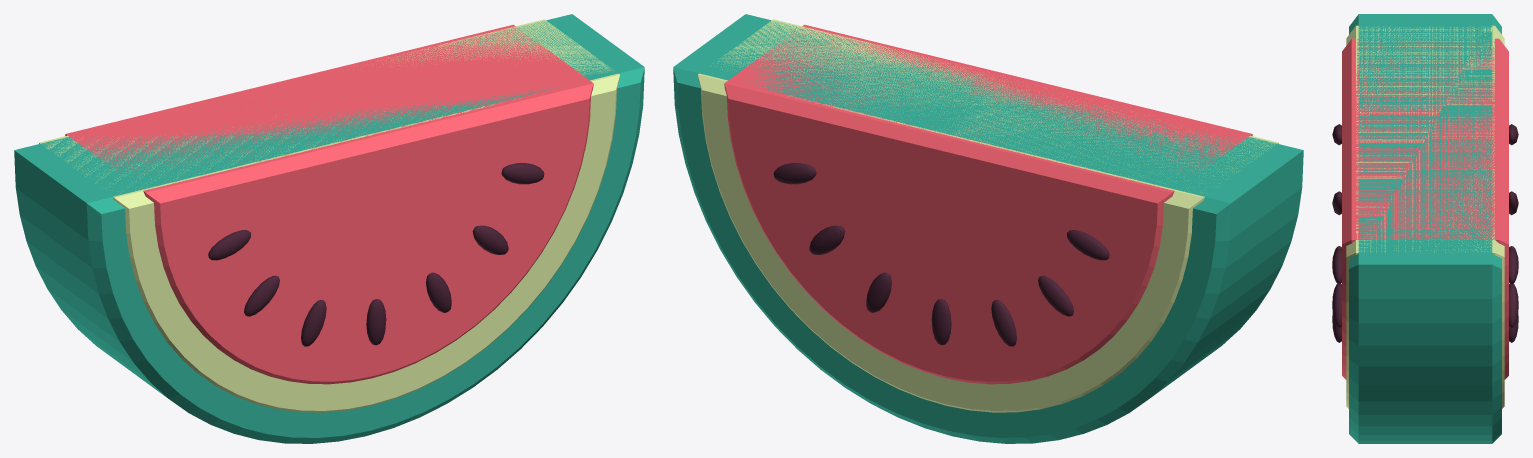
File: melon.glb
3 views of the same model, side by side, from view 1: azimuth 30°, elevation 25°; view 2: azimuth 150°, elevation 25°; view 3: azimuth 270°, elevation 25° (orthographic). The views are drawn at different scales.
Parts seen in each view (by area): view 1: melon-melon, melon-rind, melon-pith, melon-seed; view 2: melon-melon, melon-rind, melon-pith, melon-seed; view 3: melon-rind, melon-melon, melon-pith, melon-seed.
Part boxes in pixels (x1,y1,x2,y2): melon-melon: (65, 24, 593, 384); melon-rind: (14, 14, 644, 443); melon-pith: (39, 19, 619, 412); melon-seed: (208, 163, 544, 346); melon-melon: (724, 24, 1252, 384); melon-rind: (673, 14, 1303, 443); melon-pith: (698, 19, 1278, 412); melon-seed: (773, 163, 1109, 346); melon-rind: (1349, 14, 1501, 443); melon-melon: (1342, 38, 1508, 379); melon-pith: (1346, 25, 1504, 408); melon-seed: (1332, 124, 1518, 342).
Size of the model in its own units: 2.13 by 1.1 by 0.67.
